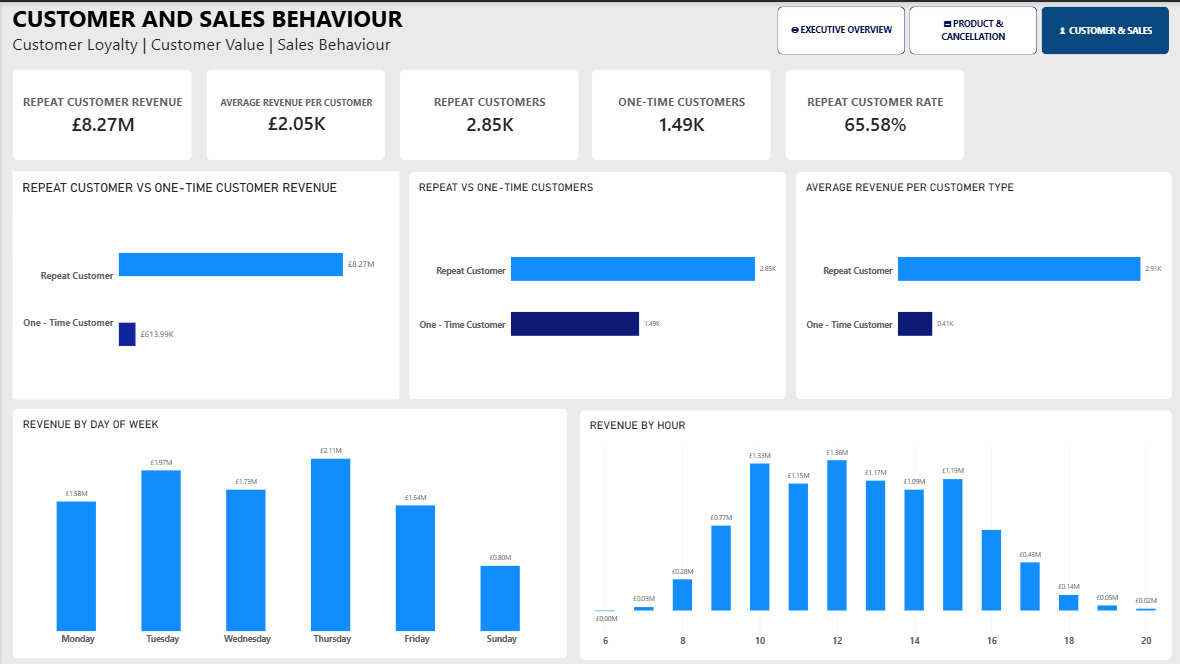

Layout of this report page (visuals, bound fields, positions):
{"tool":"powerbi","page":{"name":"CUSTOMER & SALES BEHAVIOUR.","canvas":[1920,1080],"ordinal":2},"visuals":[{"type":"textbox","box":[17.1,0,951.5,109.8],"z":0},{"type":"cardVisual","fields":{"Data":["Online_retail_cleaned_v2.Repeat Customer Revenue"]},"box":[17.1,109.8,292.8,148.8],"z":1000},{"type":"cardVisual","fields":{"Data":["Online_retail_cleaned_v2.AVERAGE REVENUE PER CUSTOMER"]},"box":[331.2,109.8,292.8,148.8],"z":2000},{"type":"cardVisual","fields":{"Data":["Online_retail_cleaned_v2.REPEAT CUSTOMERS"]},"box":[645.3,109.8,292.8,148.8],"z":3000},{"type":"cardVisual","fields":{"Data":["Online_retail_cleaned_v2.ONE-TIME CUSTOMERS"]},"box":[959.5,109.8,292.8,148.8],"z":4000},{"type":"cardVisual","fields":{"Data":["Online_retail_cleaned_v2.REPEAT CUSTOMER RATE"]},"box":[1273.6,109.8,292.8,148.8],"z":5000},{"type":"clusteredBarChart","title":"REPEAT CUSTOMER VS ONE-TIME CUSTOMER REVENUE","fields":{"Category":["Customer Revenue Type.Customer Type"],"Series":["Customer Revenue Type.Customer Type"],"Y":["Customer Revenue Type.Customer Revenue Comparison"]},"box":[17.1,275.7,629.5,370.9],"z":6000},{"type":"clusteredBarChart","title":"REPEAT VS ONE-TIME CUSTOMERS","fields":{"Category":["Customer Revenue Type.Customer Type"],"Y":["Customer Revenue Type.Customer Count Comparison"]},"box":[661.2,275.7,614.8,370.9],"z":7000},{"type":"clusteredBarChart","title":"AVERAGE REVENUE PER CUSTOMER TYPE","fields":{"Category":["Customer Revenue Type.Customer Type"],"Y":["Customer Revenue Type.Average Customer Revenue by Type"]},"box":[1290.7,275.7,612.4,370.9],"z":8000},{"type":"clusteredColumnChart","title":"REVENUE BY DAY OF WEEK","fields":{"Category":["Online_retail_cleaned_v2.Day Name"],"Y":["Online_retail_cleaned_v2.TOTAL REVENUE"]},"box":[17.1,661.2,902.7,407.4],"z":9000},{"type":"clusteredColumnChart","title":"REVENUE BY HOUR","fields":{"Category":["Online_retail_cleaned_v2.Sales Hour"],"Y":["Online_retail_cleaned_v2.TOTAL REVENUE"]},"box":[939.3,663.6,963.7,407.4],"z":10000},{"type":"actionButton","box":[1262.2,7.3,207.4,78.1],"z":10001},{"type":"actionButton","box":[1690.7,8,207.4,78.1],"z":10002},{"type":"actionButton","box":[1476.9,7.3,207.4,78.1],"z":10003}]}

Visuals, with their boxes in screenshot pixels (x1, y1, x2, y2), scaled from the page's 1920x1080 canvas onto the 1180x664 screenshot:
textbox: <bbox>11, 0, 595, 68</bbox>
cardVisual - Online_retail_cleaned_v2.Repeat Customer Revenue: <bbox>11, 68, 190, 159</bbox>
cardVisual - Online_retail_cleaned_v2.AVERAGE REVENUE PER CUSTOMER: <bbox>204, 68, 384, 159</bbox>
cardVisual - Online_retail_cleaned_v2.REPEAT CUSTOMERS: <bbox>397, 68, 577, 159</bbox>
cardVisual - Online_retail_cleaned_v2.ONE-TIME CUSTOMERS: <bbox>590, 68, 770, 159</bbox>
cardVisual - Online_retail_cleaned_v2.REPEAT CUSTOMER RATE: <bbox>783, 68, 963, 159</bbox>
"REPEAT CUSTOMER VS ONE-TIME CUSTOMER REVENUE" clusteredBarChart: <bbox>11, 170, 397, 398</bbox>
"REPEAT VS ONE-TIME CUSTOMERS" clusteredBarChart: <bbox>406, 170, 784, 398</bbox>
"AVERAGE REVENUE PER CUSTOMER TYPE" clusteredBarChart: <bbox>793, 170, 1170, 398</bbox>
"REVENUE BY DAY OF WEEK" clusteredColumnChart: <bbox>11, 407, 565, 657</bbox>
"REVENUE BY HOUR" clusteredColumnChart: <bbox>577, 408, 1170, 658</bbox>
actionButton: <bbox>776, 4, 903, 53</bbox>
actionButton: <bbox>1039, 5, 1167, 53</bbox>
actionButton: <bbox>908, 4, 1035, 53</bbox>
